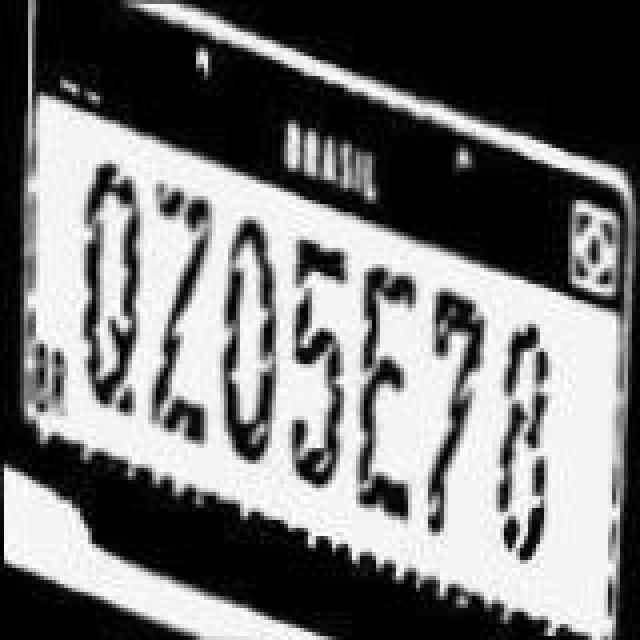5: (282, 230, 346, 490)
7: (424, 286, 488, 546)
8: (496, 310, 560, 574)
E: (354, 262, 414, 518)
O: (220, 208, 272, 464)
Q: (70, 158, 142, 414)
Z: (150, 176, 206, 448)
